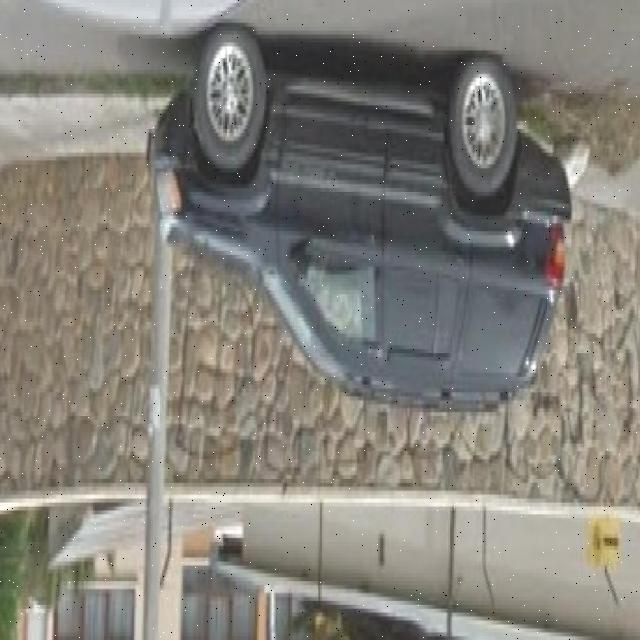car: (151, 26, 578, 427)
